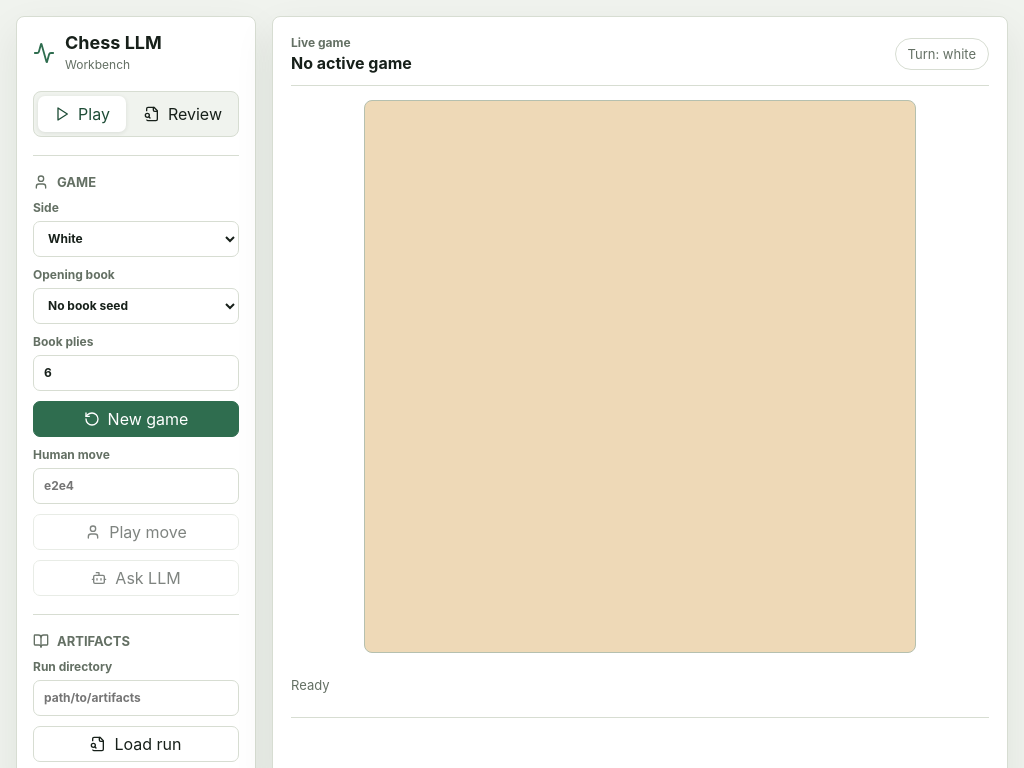
Test: App › shows reasoning and judgment for a selected live LLM timeline move
The width and height of the screenshot is (1024, 768).
Click the button "New game". click: (136, 419)
box: [33, 401, 239, 437]
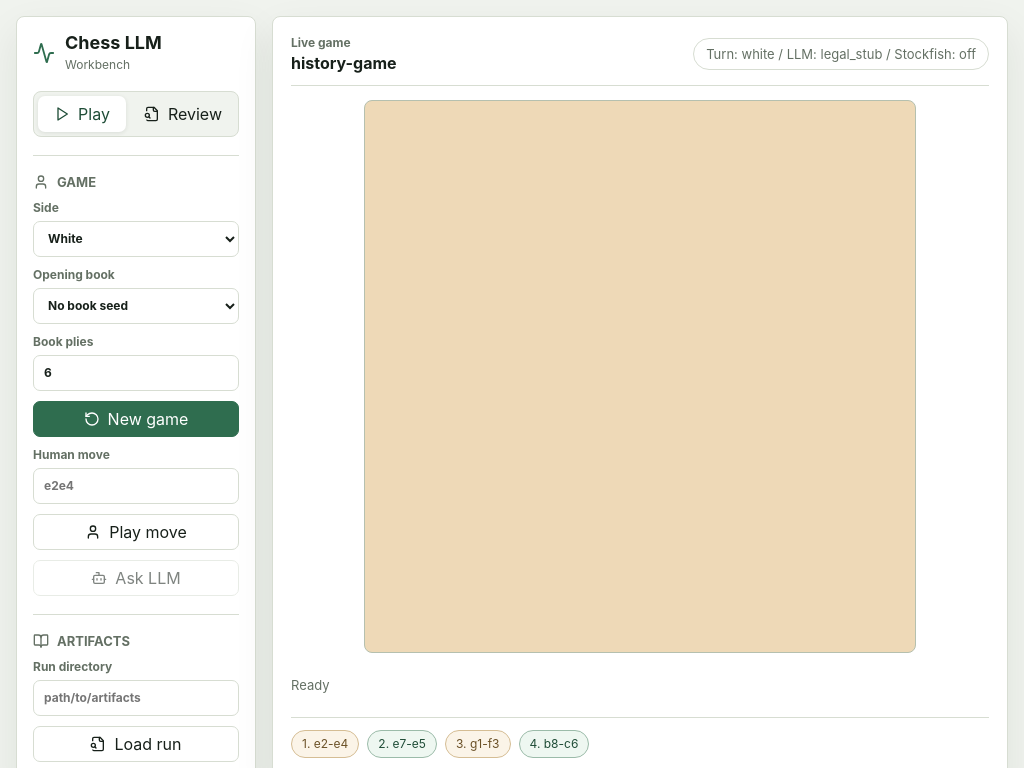
Click the button "2. e7-e5". click: (402, 744)
box: [367, 730, 437, 758]
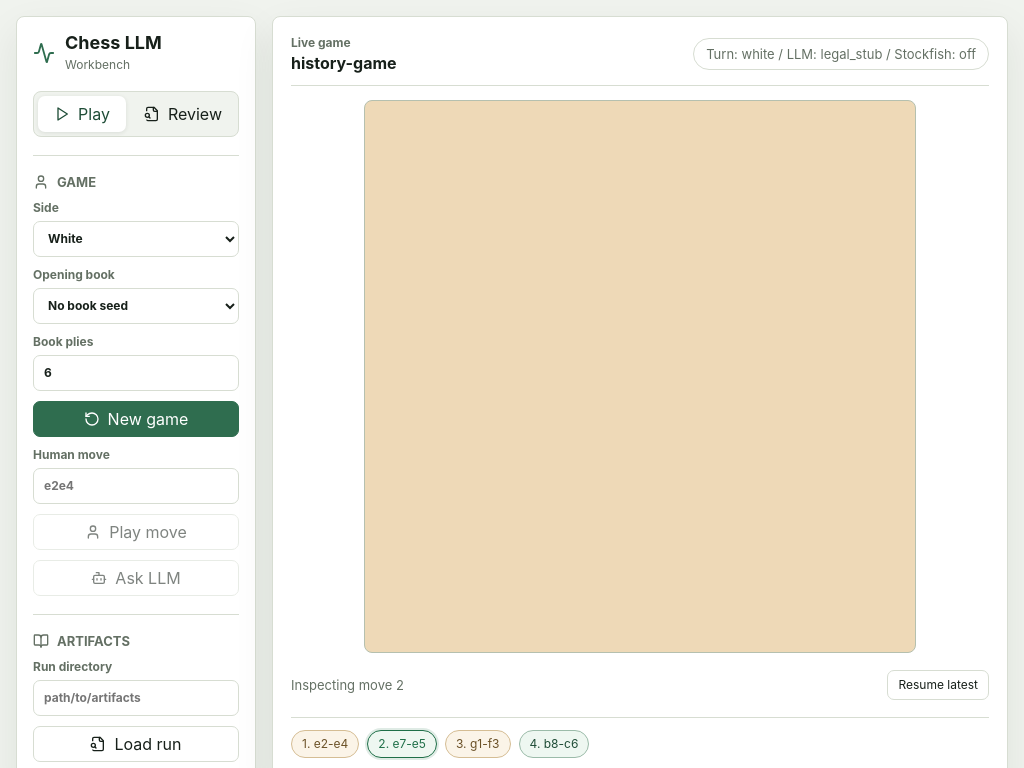
Click the button "Resume latest". click: (938, 685)
box: [887, 670, 989, 700]
(page scrolled)
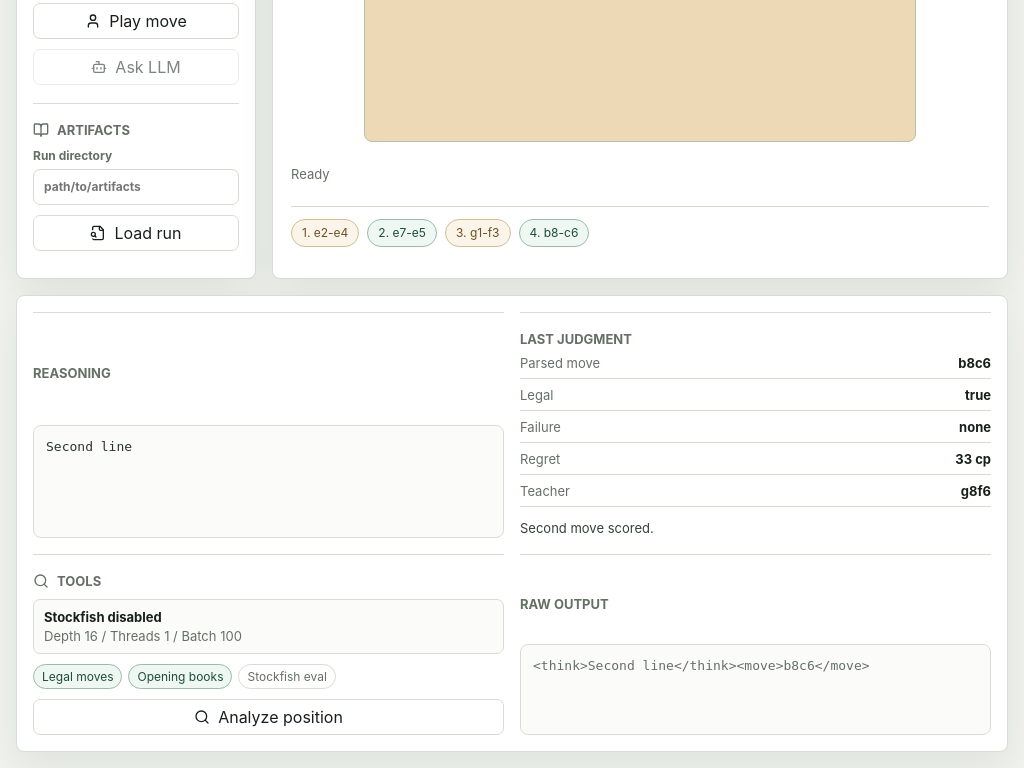
Expected: the text "Second line" is shown, [33, 425, 504, 538]
Expected: the text "33 cp" is shown, [955, 451, 991, 467]
